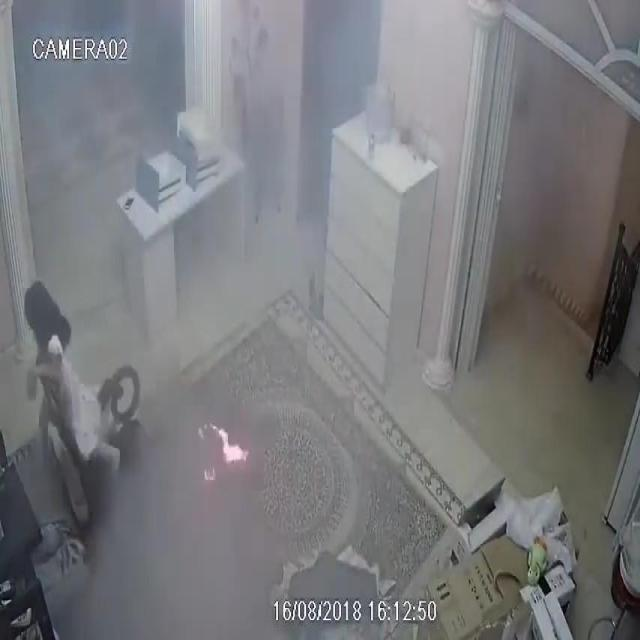fire: (199, 424, 248, 480)
